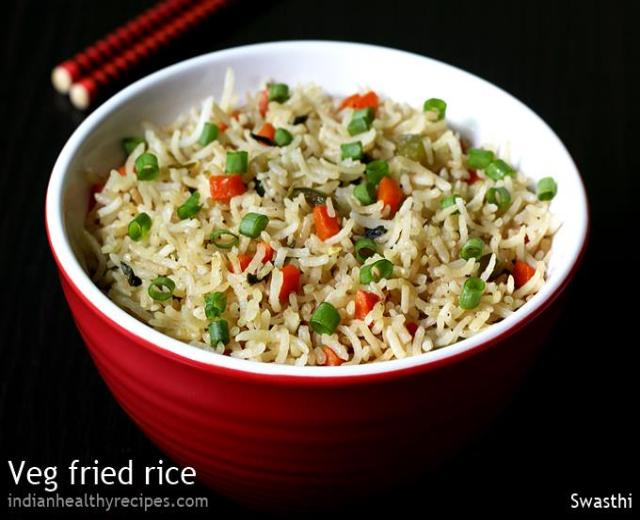fried rice: (48, 41, 584, 498)
